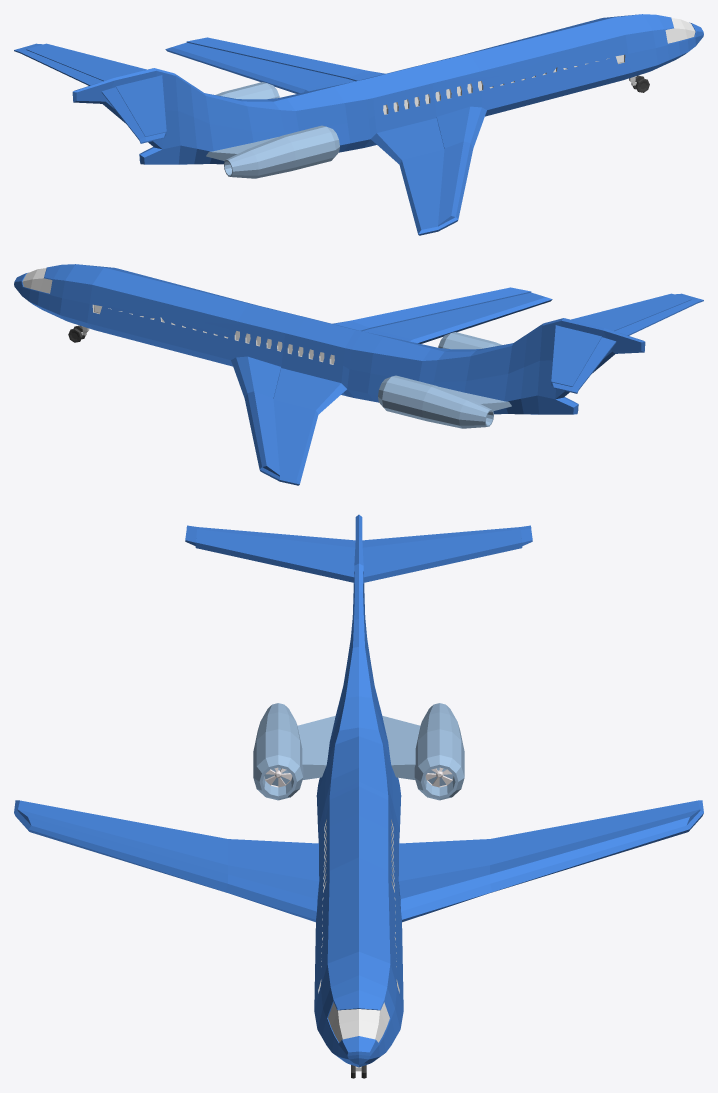
The picture shows the model from 3 angles, top to bottom: view 1: azimuth 30°, elevation 25°; view 2: azimuth 150°, elevation 25°; view 3: azimuth 270°, elevation 25°; orthographic projection. The views are drawn at different scales.
Visible parts, largest first — view 1: Plane.006; view 2: Plane.006; view 3: Plane.006.
Boxes of the visible parts, box(x1,y1,x2,y2) form: Plane.006: box(14, 14, 703, 235); Plane.006: box(14, 264, 703, 485); Plane.006: box(14, 514, 703, 1078).
Size of the model in its own units: 228 by 49.01 by 159.
